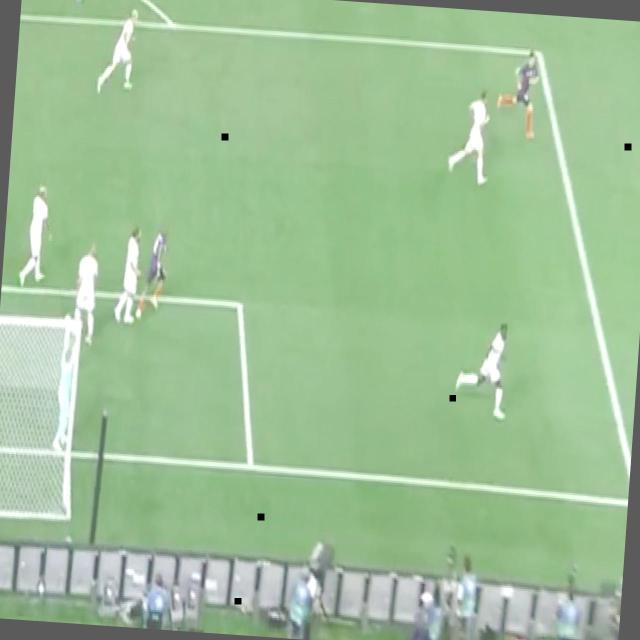player-white: (450, 316, 514, 424), (444, 87, 496, 189), (494, 44, 544, 140), (16, 180, 58, 294), (94, 3, 142, 102), (133, 216, 173, 328), (50, 311, 80, 455), (111, 222, 147, 330), (69, 236, 103, 350), (67, 0, 98, 7)
